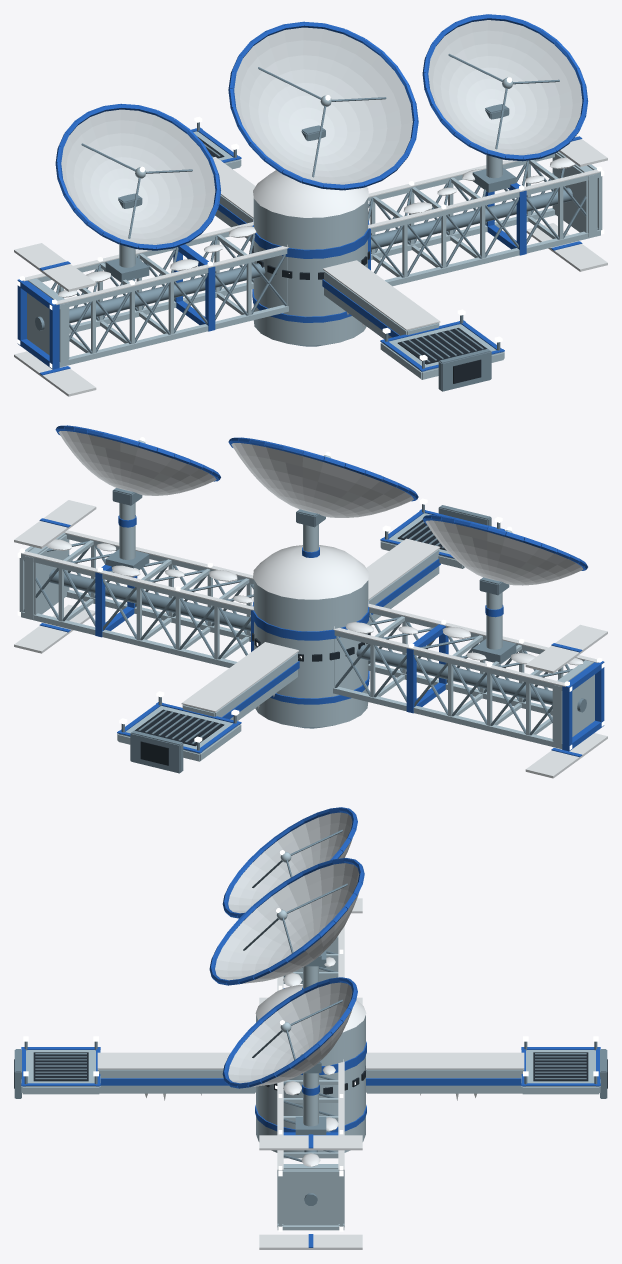
The model's file is lantern_post.glb.
3 views of the same model, one above another, from view 1: azimuth 30°, elevation 25°; view 2: azimuth 150°, elevation 25°; view 3: azimuth 270°, elevation 25° (orthographic). The views are drawn at different scales.
Visible parts, largest first — view 1: lantern_post_dish_face, lantern_post_ice_blue_plate, lantern_post_frost, lantern_post_lantern_blue, lantern_post_ice_blue_dark, lantern_post_hatch_dark, lantern_post_work_light_white; view 2: lantern_post_frost, lantern_post_ice_blue_plate, lantern_post_ice_blue_dark, lantern_post_lantern_blue, lantern_post_hatch_dark, lantern_post_work_light_white; view 3: lantern_post_ice_blue_plate, lantern_post_dish_face, lantern_post_frost, lantern_post_lantern_blue, lantern_post_ice_blue_dark, lantern_post_hatch_dark, lantern_post_work_light_white.
Boxes of the visible parts, x1=… form: lantern_post_dish_face: x1=61, y1=20, x2=582, y2=244; lantern_post_ice_blue_plate: x1=27, y1=77, x2=602, y2=379; lantern_post_frost: x1=14, y1=135, x2=607, y2=396; lantern_post_lantern_blue: x1=17, y1=14, x2=588, y2=375; lantern_post_ice_blue_dark: x1=35, y1=53, x2=598, y2=391; lantern_post_hatch_dark: x1=197, y1=136, x2=487, y2=383; lantern_post_work_light_white: x1=17, y1=77, x2=604, y2=368; lantern_post_frost: x1=14, y1=431, x2=607, y2=778; lantern_post_ice_blue_plate: x1=19, y1=440, x2=594, y2=761; lantern_post_ice_blue_dark: x1=23, y1=488, x2=586, y2=773; lantern_post_lantern_blue: x1=39, y1=425, x2=604, y2=757; lantern_post_hatch_dark: x1=135, y1=519, x2=446, y2=765; lantern_post_work_light_white: x1=17, y1=437, x2=604, y2=749; lantern_post_ice_blue_plate: x1=21, y1=852, x2=600, y2=1230; lantern_post_dish_face: x1=215, y1=812, x2=359, y2=1083; lantern_post_frost: x1=97, y1=838, x2=524, y2=1249; lantern_post_lantern_blue: x1=21, y1=807, x2=600, y2=1247; lantern_post_ice_blue_dark: x1=14, y1=829, x2=607, y2=1205; lantern_post_hatch_dark: x1=14, y1=1052, x2=607, y2=1094; lantern_post_work_light_white: x1=23, y1=850, x2=598, y2=1231.
Bounding box in the file's own units: 199 × 102 × 195.
